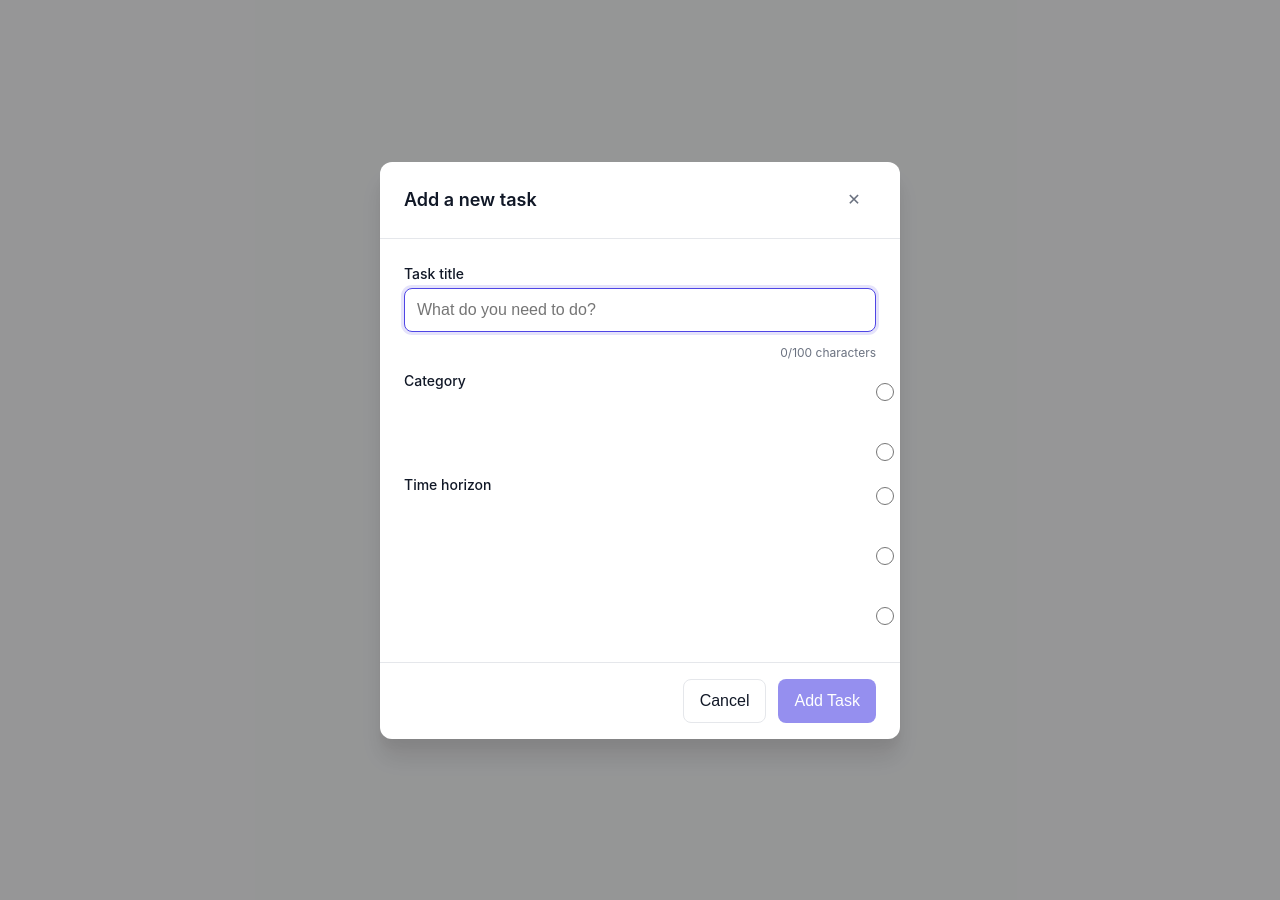
Test: CreateTaskModal — validation › submit button enabled when all fields filled
The width and height of the screenshot is (1280, 900).
Step 1. Type "My new task" into the field with placeholder "What do you need to do?" → (640, 310), box [404,288,876,332]
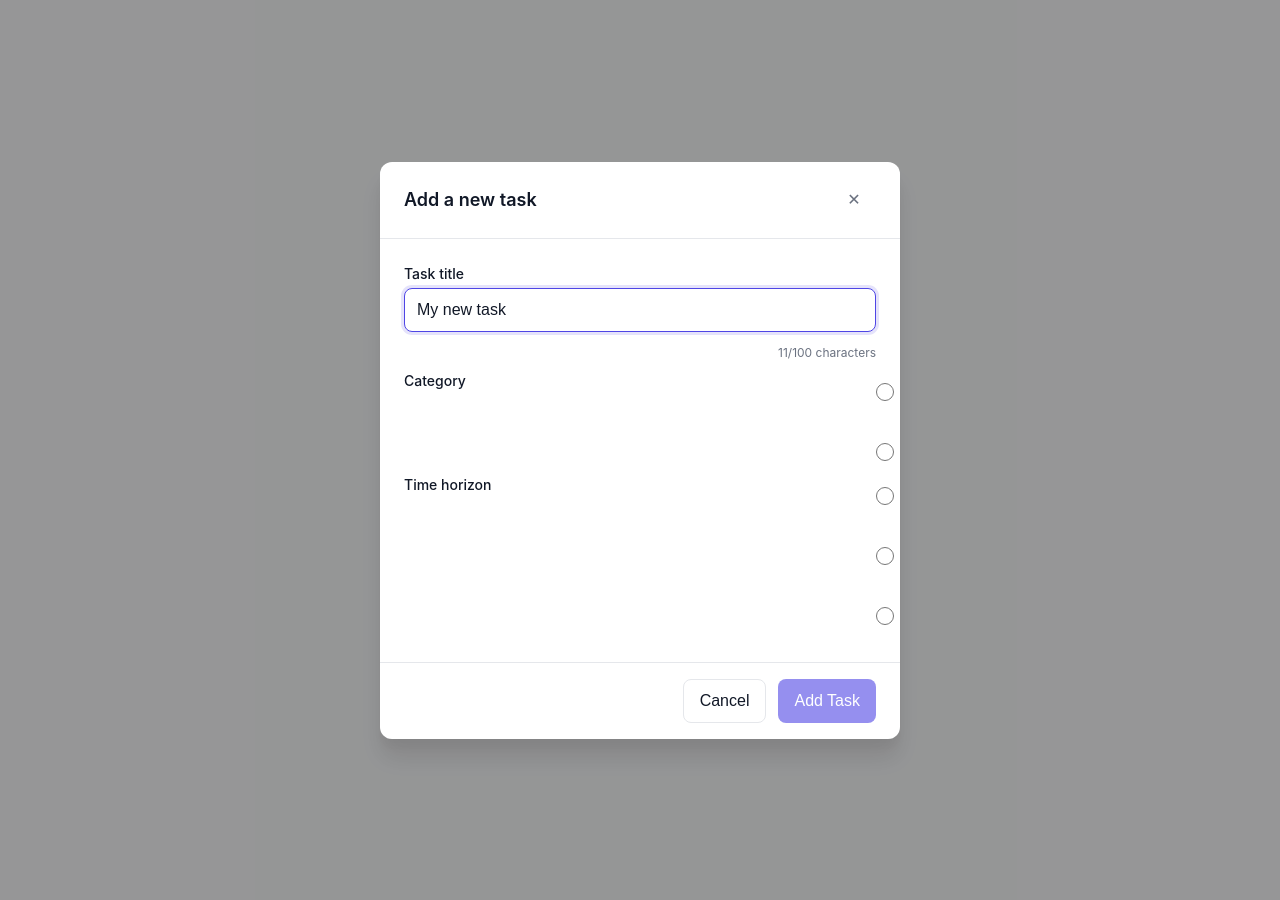
Step 2. Click the radio button labelled "Personal" → click(885, 392), box [876,382,894,400]
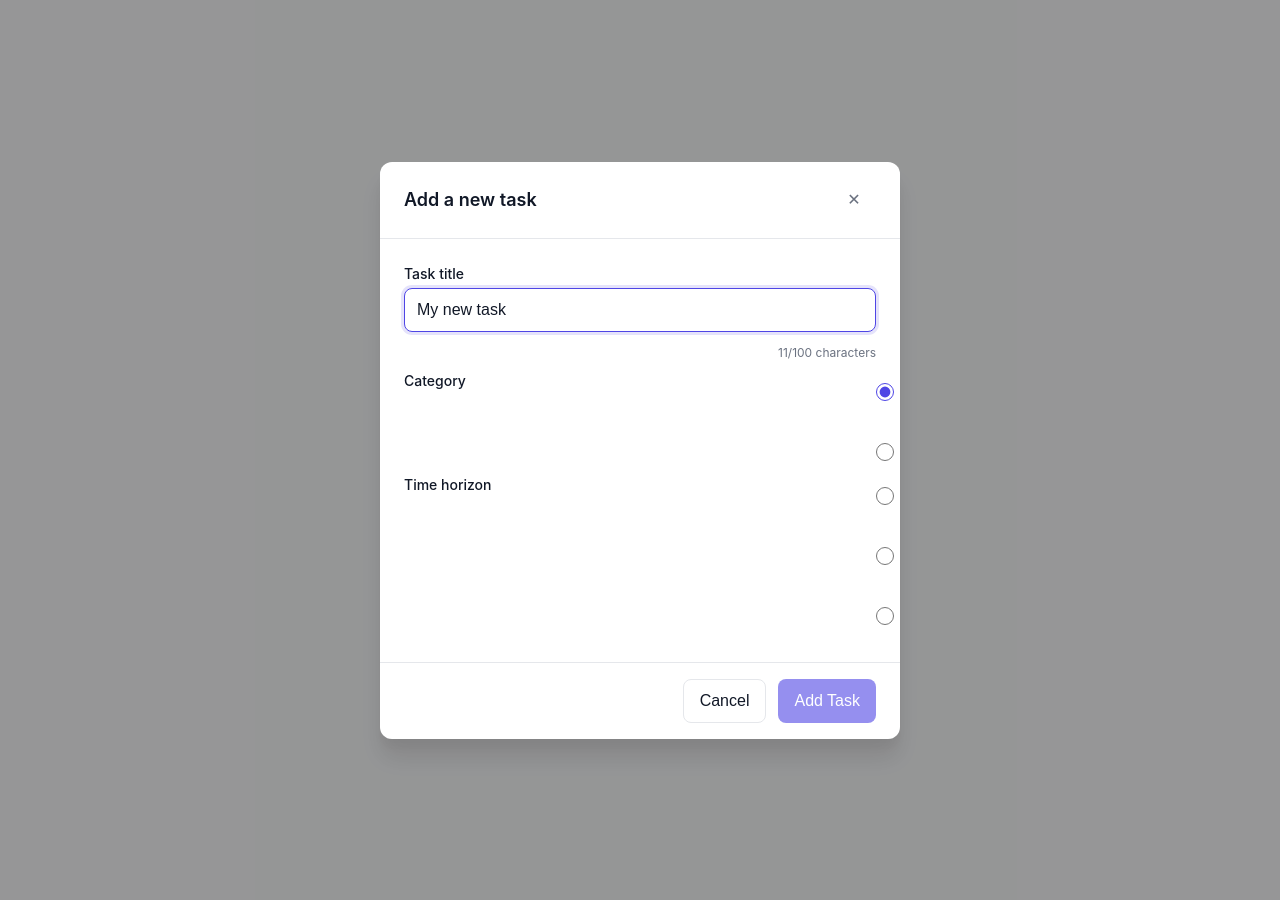
Step 3. Click the radio button labelled "Daily" → click(885, 496), box [876,486,894,504]
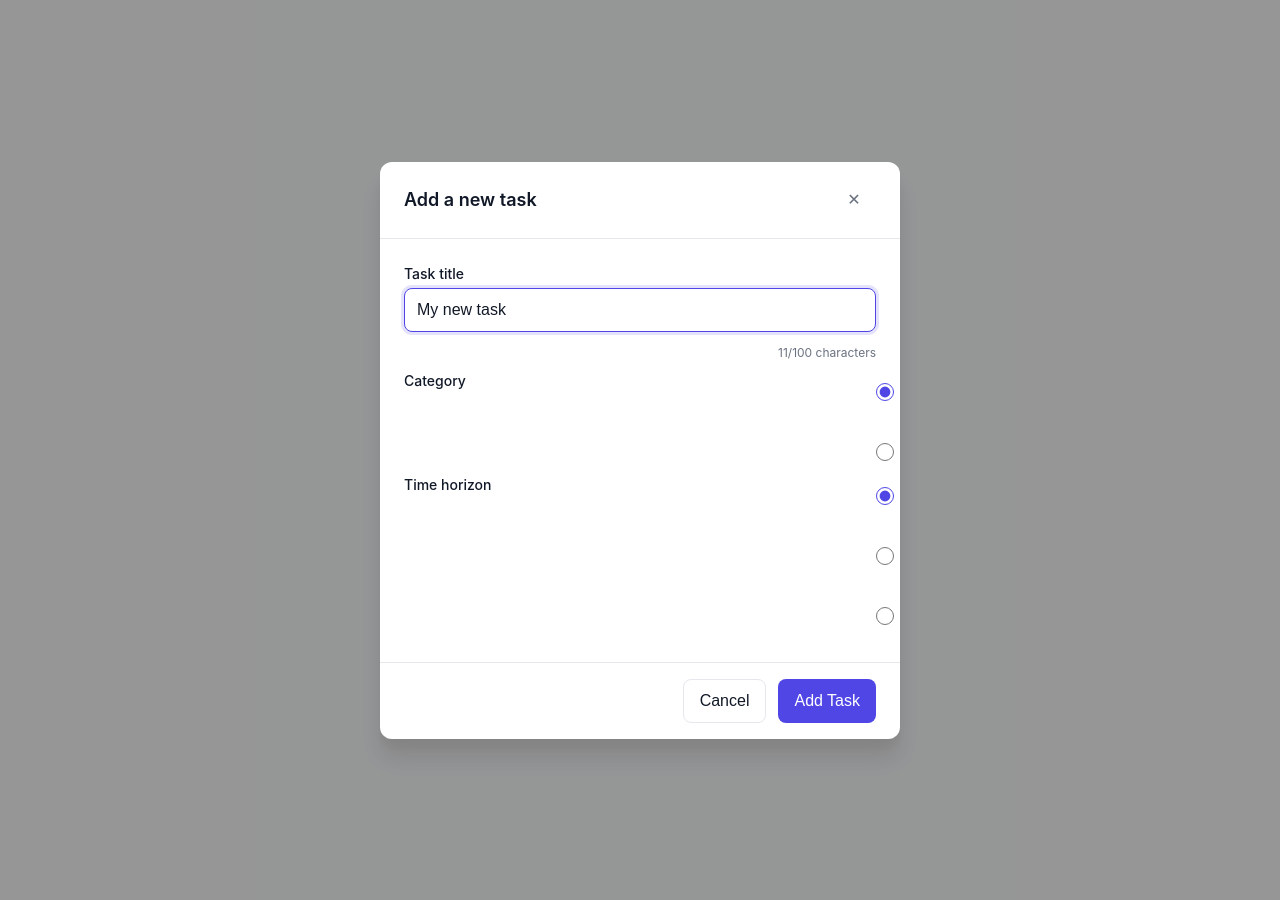
Expected: the button "Add Task" is enabled, [778,678,876,722]
